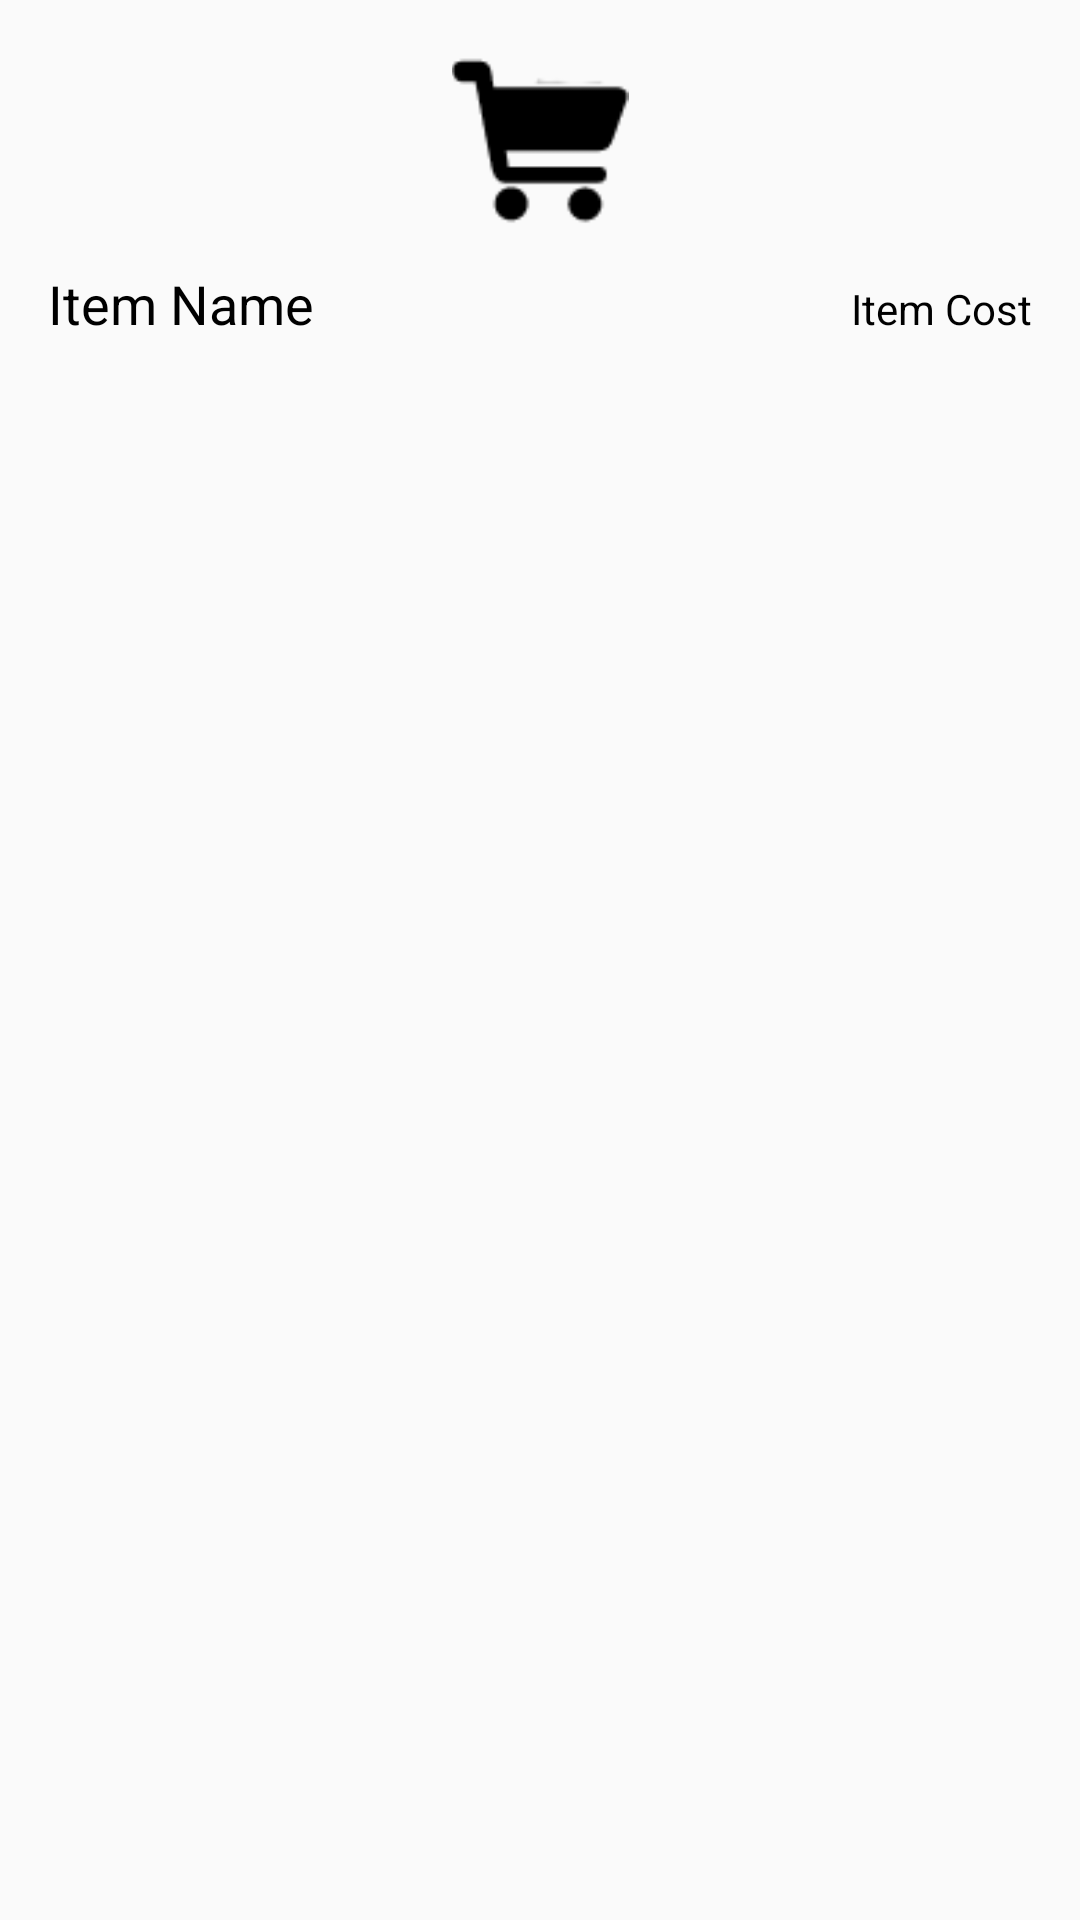

Icons on this 1080px x 1920px Android screen, each with the point to tap as (x=x, y=y):
shop: (x=540, y=141)
